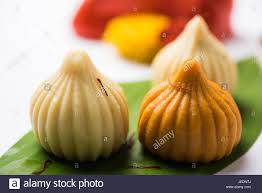modak: (27, 45, 247, 166)
